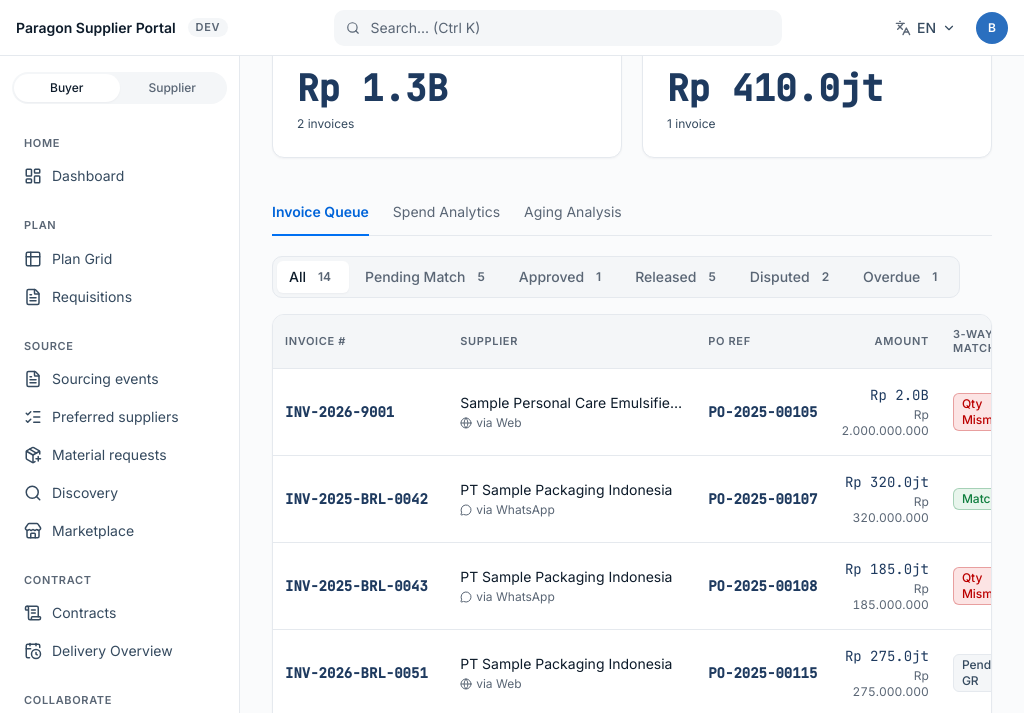
Test: OPS-1 · finance reads what the verdict rests on › half received: the invoice is held as more than was received, never as a price variance
The image size is (1024, 713).
(page scrolled)
Click the text "INV-2026-9001".
click(340, 412)  # box [285,403,394,421]
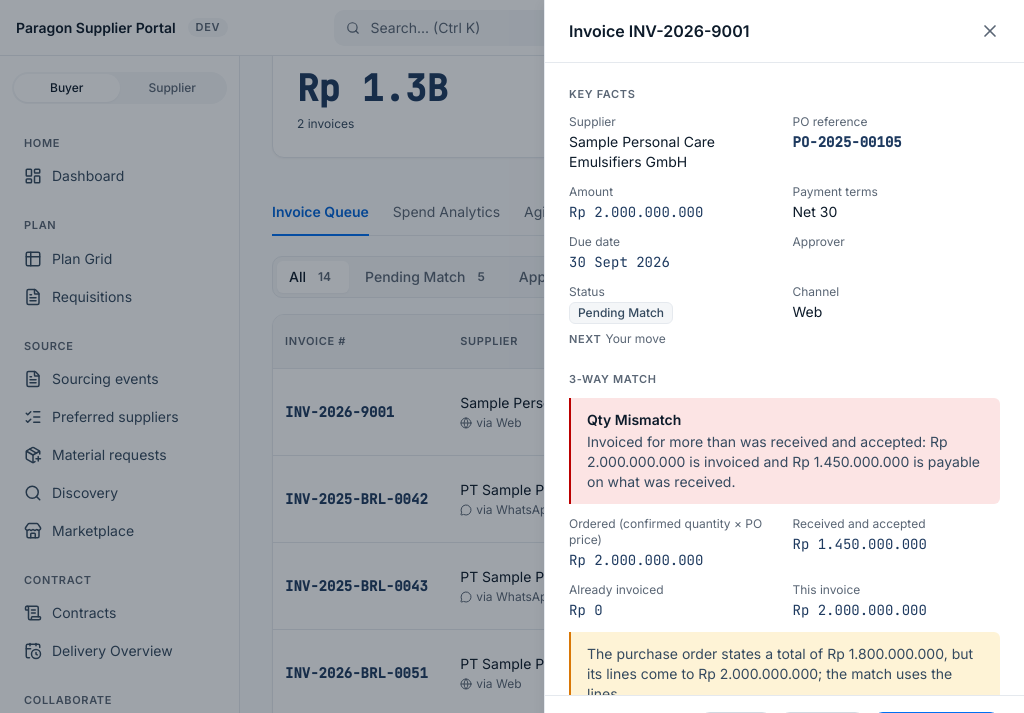
Expected: the text with test id "invoice-match-desc" shows "Invoiced for more than was received and accepted: Rp 2.000.000.000 is invoiced and Rp 1.450.000.000 is payable on what was received.", [587,433,980,490]
